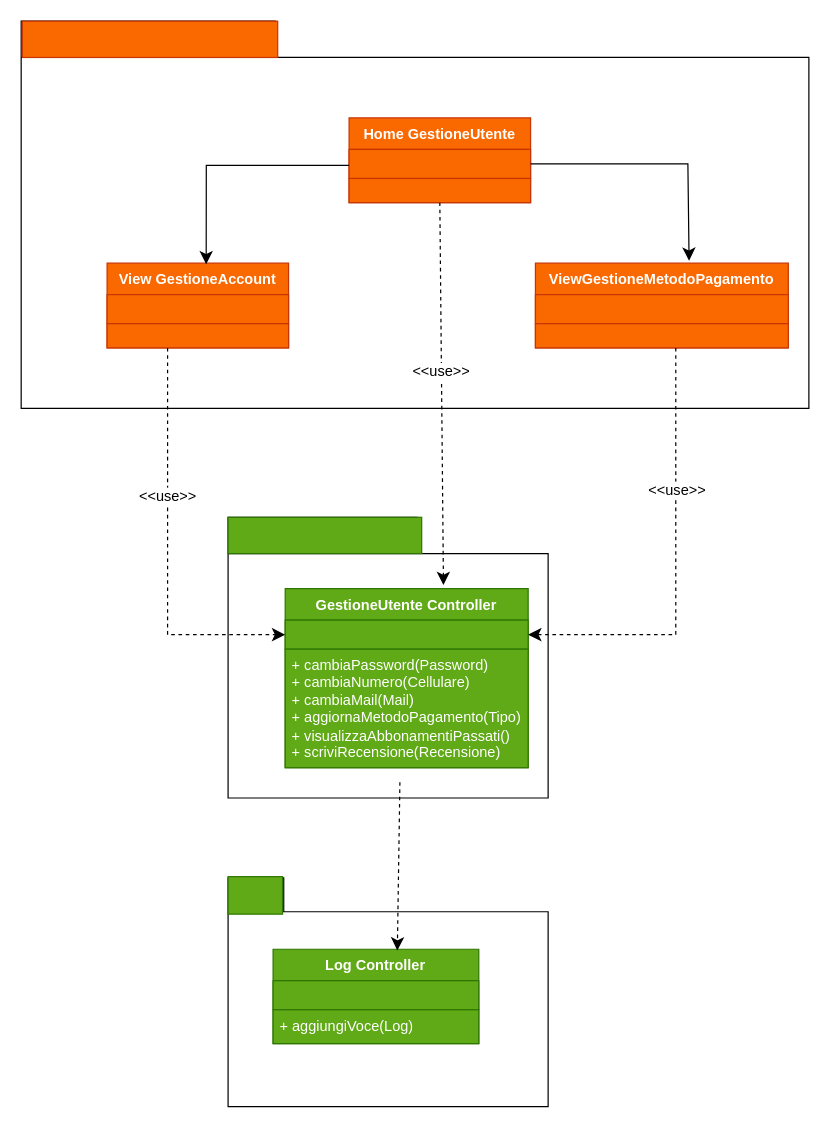
This 830x1128 diagram has some shape labels left out. The centre of each missing label's shape, as x and y in pixels:
"GestioneUtente" goes at pixel 324 535.
"Interfaccia GestioneUtente" goes at pixel 149 38.
"Log" goes at pixel 255 894.
